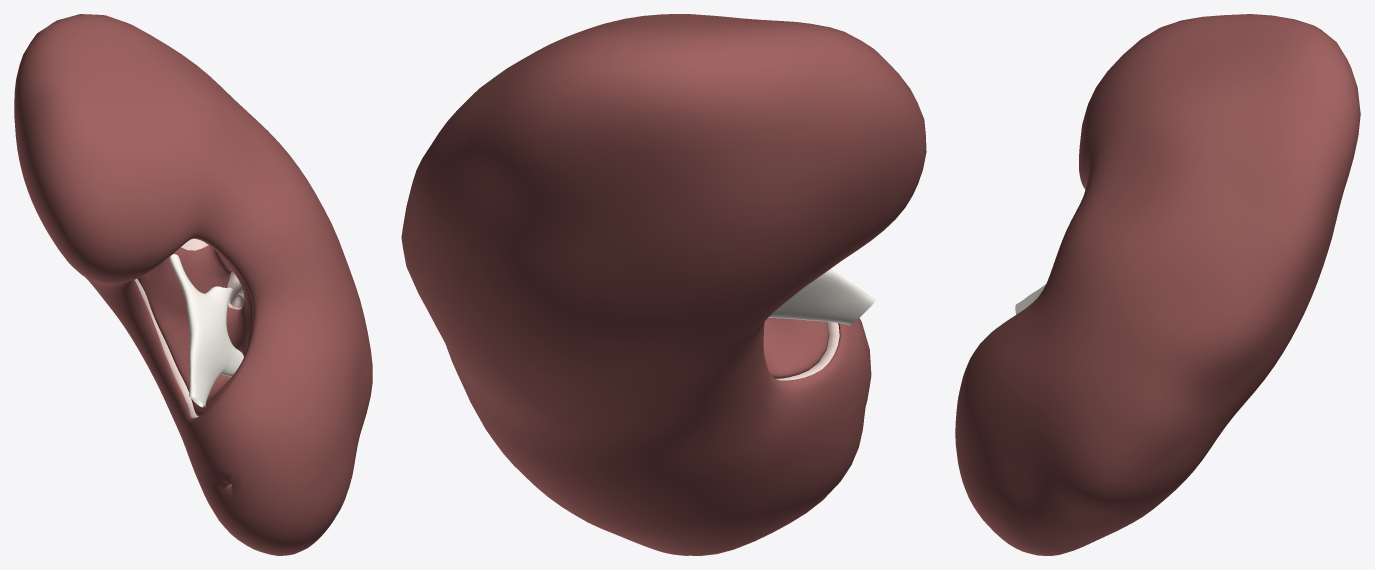
Rendered from kidney_l.glb.
3 renders of one model, left to right at view 1: azimuth 30°, elevation 25°; view 2: azimuth 150°, elevation 25°; view 3: azimuth 270°, elevation 25°, orthographic. The views are drawn at different scales.
Visible parts, largest first — view 1: VH_M_kidney_capsule_L, VH_M_major_calyx_L_a, VH_M_renal_papilla_L_a; view 2: VH_M_kidney_capsule_L, VH_M_major_calyx_L_a, VH_M_renal_papilla_L_a; view 3: VH_M_kidney_capsule_L.
Part boxes in pixels (x1=…): VH_M_kidney_capsule_L: x1=14, y1=14, x2=372, y2=555; VH_M_major_calyx_L_a: x1=169, y1=254, x2=243, y2=407; VH_M_renal_papilla_L_a: x1=135, y1=238, x2=244, y2=417; VH_M_kidney_capsule_L: x1=401, y1=14, x2=926, y2=555; VH_M_major_calyx_L_a: x1=768, y1=269, x2=875, y2=325; VH_M_renal_papilla_L_a: x1=776, y1=321, x2=839, y2=380; VH_M_kidney_capsule_L: x1=955, y1=14, x2=1360, y2=555.
Size of the model in its own units: 0.0757 by 0.1065 by 0.0824.
